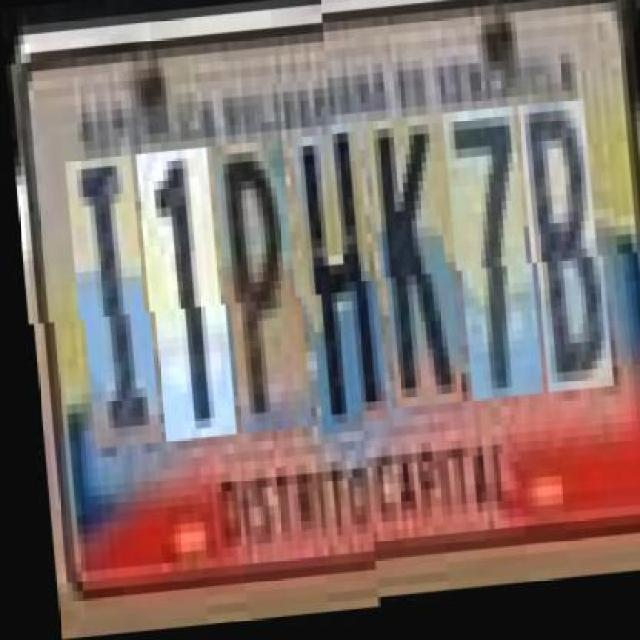1: (138, 150, 228, 444)
7: (444, 126, 536, 420)
b: (520, 119, 606, 413)
h: (294, 138, 380, 442)
i: (66, 158, 152, 450)
k: (370, 132, 456, 426)
p: (213, 144, 304, 438)
